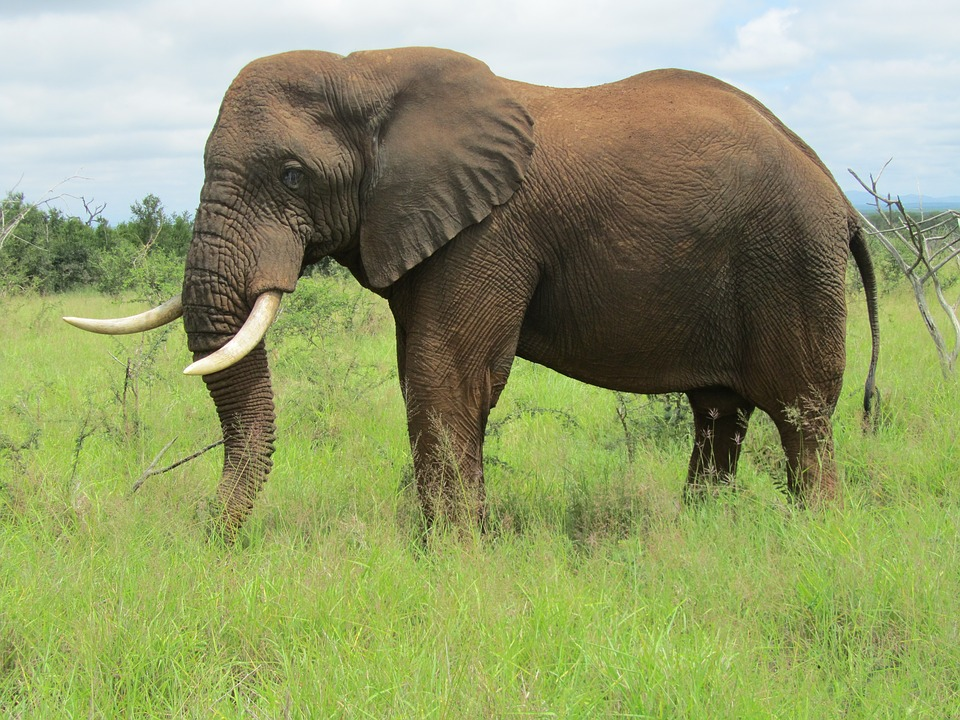elephant: (60, 35, 894, 554)
